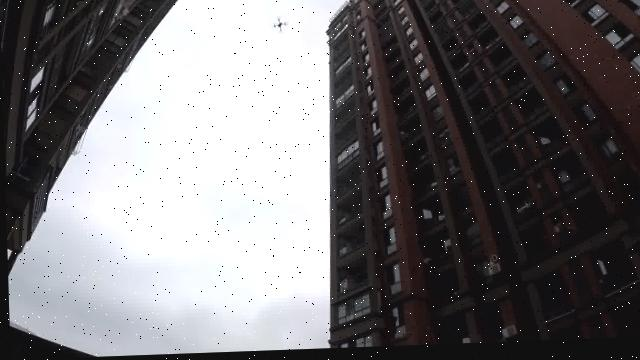drone: (262, 11, 295, 40)
